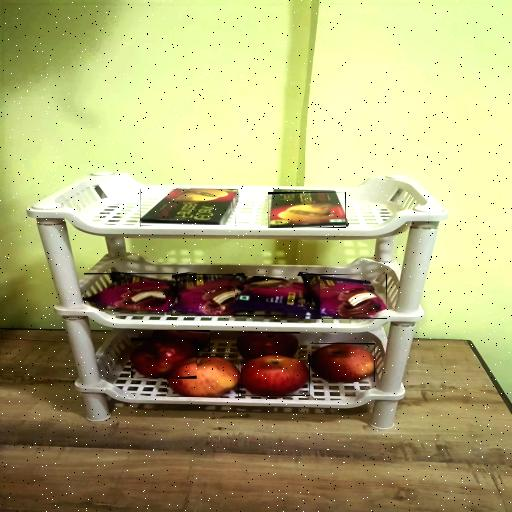Apple: (167, 356, 239, 397), (241, 354, 310, 396), (310, 343, 375, 382), (132, 339, 195, 378), (238, 332, 300, 359), (153, 330, 210, 352)
Choco Fills: (140, 190, 236, 228), (268, 192, 346, 228)
Choco Pie: (301, 274, 387, 319), (84, 273, 176, 312), (235, 276, 319, 316), (171, 274, 245, 316)
